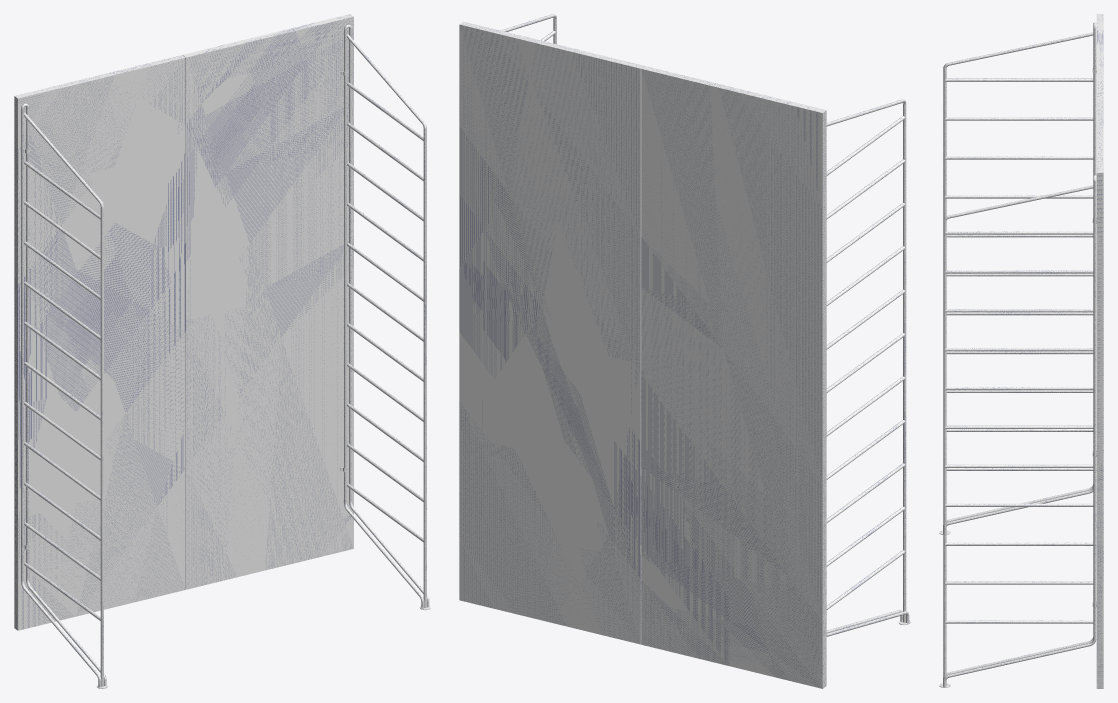
3 views of the same model, side by side, from view 1: azimuth 30°, elevation 25°; view 2: azimuth 150°, elevation 25°; view 3: azimuth 270°, elevation 25° (orthographic). The views are drawn at different scales.
Parts seen in each view (by area): view 1: Group29, Group28, Group2, Group15; view 2: Group28, Group29, Group2; view 3: Group15, Group29, Group2, Group28, Group4, Group8, Group9, Group17, Group21, Group25, Group26, Group22 (+14 smaller).
Boxes of the visible parts, x1,y1,x2,y2 form: Group29: [182, 14, 353, 589]; Group28: [14, 55, 185, 630]; Group2: [21, 103, 107, 688]; Group15: [343, 24, 430, 610]; Group28: [641, 66, 826, 688]; Group29: [459, 21, 644, 644]; Group2: [826, 99, 910, 636]; Group15: [939, 175, 1096, 687]; Group29: [1096, 93, 1103, 688]; Group2: [939, 22, 1096, 534]; Group28: [1096, 14, 1103, 93]; Group4: [945, 78, 1093, 81]; Group8: [945, 117, 1093, 120]; Group9: [945, 156, 1093, 159]; Group17: [945, 231, 1093, 234]; Group21: [945, 270, 1093, 273]; Group25: [945, 581, 1093, 584]; Group26: [945, 620, 1093, 623]; Group22: [945, 309, 1093, 312].
Bounding box in the file's own units: 788 × 1194 × 345.
